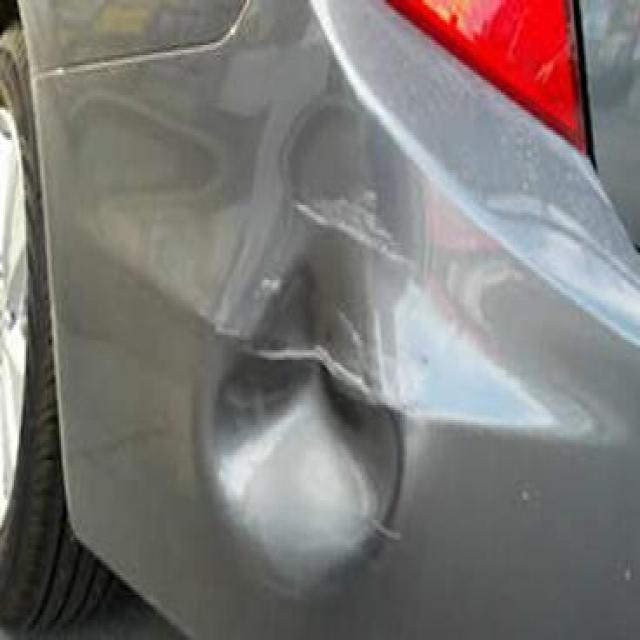dent: (178, 107, 410, 635)
